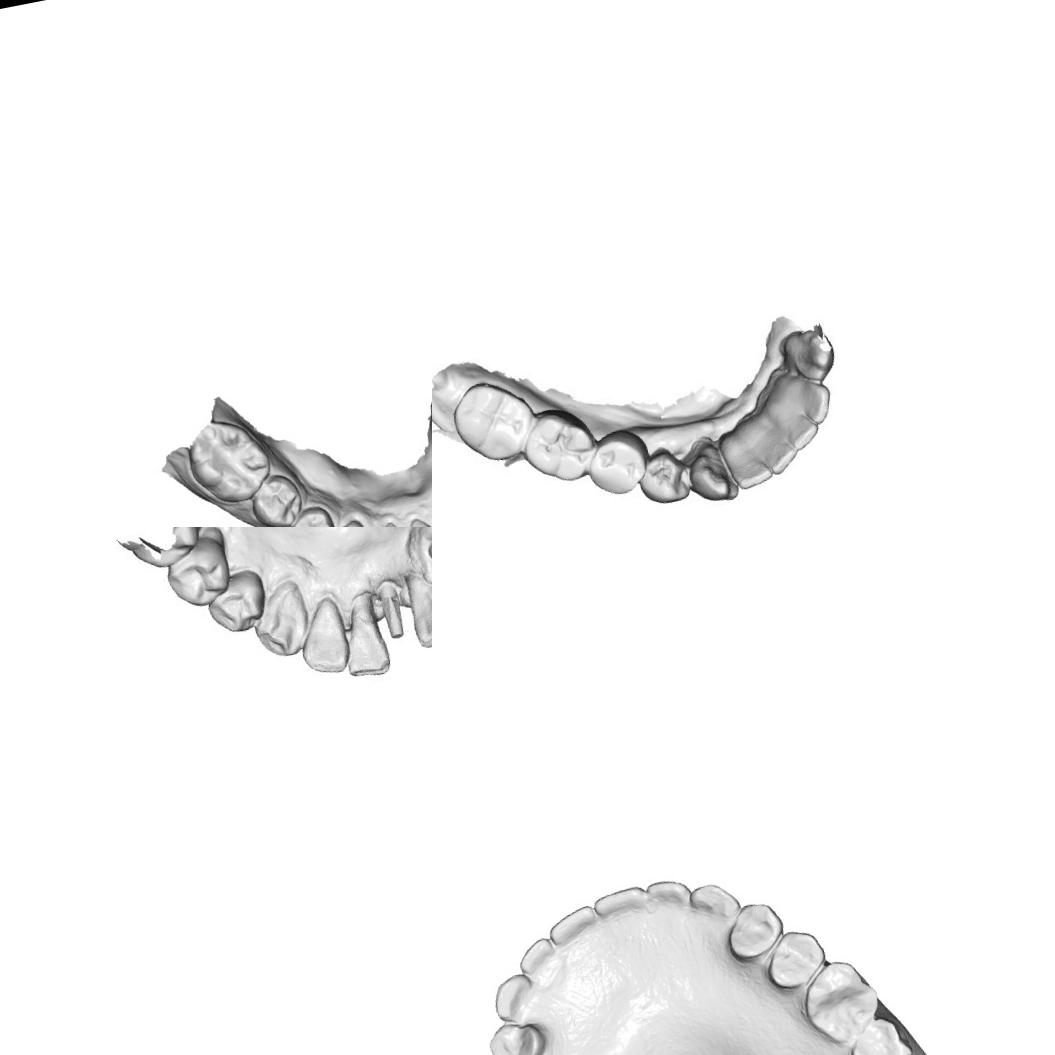abutment: (370, 571, 412, 641)
canine: (770, 321, 844, 384), (684, 865, 742, 935), (486, 968, 550, 1029), (690, 442, 740, 505), (324, 513, 381, 527)
incisor: (586, 867, 651, 932), (744, 405, 803, 474), (257, 587, 313, 658), (343, 601, 392, 678), (299, 604, 351, 676), (543, 894, 605, 954), (510, 926, 565, 984), (642, 871, 697, 925), (774, 396, 824, 451), (784, 370, 833, 424), (722, 433, 768, 486), (404, 570, 432, 647), (367, 514, 419, 527)
molar: (790, 952, 888, 1052), (182, 412, 279, 512), (449, 376, 534, 469), (520, 406, 596, 488), (839, 1010, 919, 1055)
premolar: (720, 893, 794, 968), (761, 926, 832, 1000), (162, 540, 230, 608), (581, 430, 648, 498), (243, 465, 310, 527), (632, 443, 691, 509), (208, 573, 266, 633), (477, 1013, 552, 1055), (281, 499, 342, 527)
